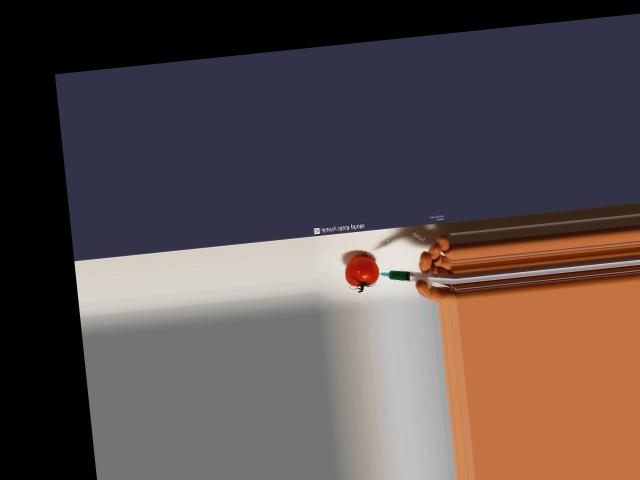tomato: (344, 253, 380, 287)
